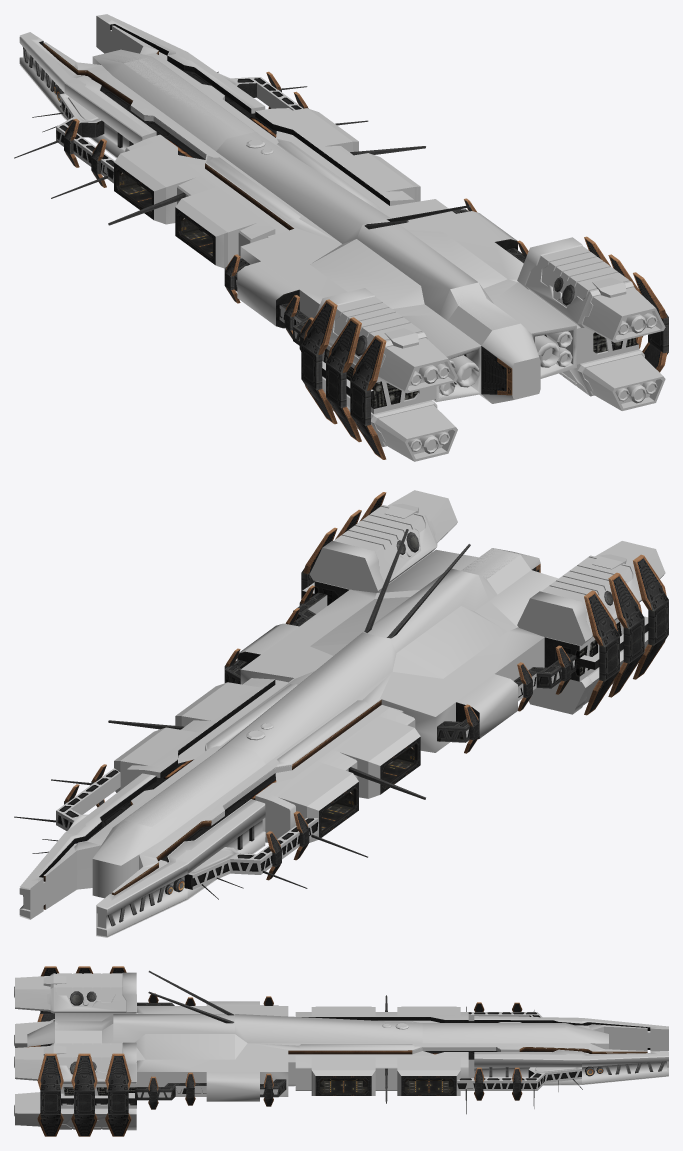
The model's file is mother ship.obj.
The picture shows the model from 3 angles, top to bottom: view 1: azimuth 30°, elevation 25°; view 2: azimuth 150°, elevation 25°; view 3: azimuth 270°, elevation 25°; orthographic projection. The views are drawn at different scales.
Parts seen in each view (by area): view 1: Mesh01, Mesh02, Mesh04, Mesh03, Mesh05; view 2: Mesh01, Mesh02, Mesh03, Mesh04, Mesh05; view 3: Mesh01, Mesh02, Mesh03, Mesh04, Mesh05.
Boxes of the visible parts, x1,y1,x2,y2 form: Mesh01: (20,16,580,403); Mesh02: (19,14,576,403); Mesh04: (56,73,665,461); Mesh03: (14,24,668,459); Mesh05: (114,162,215,264); Mesh01: (19,548,579,936); Mesh02: (20,548,544,937); Mesh03: (14,492,668,926); Mesh04: (56,490,665,889); Mesh05: (319,737,420,837); Mesh01: (55,994,668,1101); Mesh02: (27,1006,668,1096); Mesh03: (27,966,665,1136); Mesh04: (14,972,581,1130); Mesh05: (315,1076,456,1095).
Size of the model in its own units: 50.24 by 24.32 by 130.
